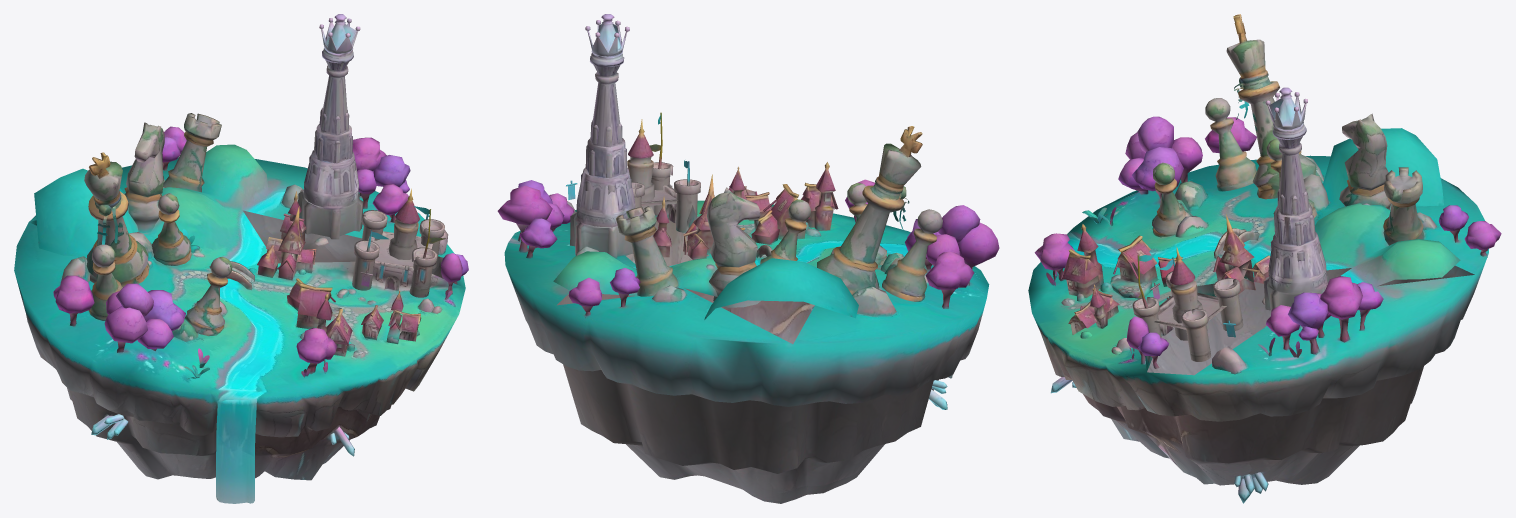
Rendered from island.glb.
The picture shows the model from 3 angles, left to right: view 1: azimuth 30°, elevation 25°; view 2: azimuth 150°, elevation 25°; view 3: azimuth 270°, elevation 25°; orthographic projection. The views are drawn at different scales.
Visible parts, largest first — view 1: tripo_node_1dd5252f-781f-4c1a-ab80-42c4d575feab; view 2: tripo_node_1dd5252f-781f-4c1a-ab80-42c4d575feab; view 3: tripo_node_1dd5252f-781f-4c1a-ab80-42c4d575feab.
Part boxes in pixels (x1,y1,x2,y2): tripo_node_1dd5252f-781f-4c1a-ab80-42c4d575feab: (14, 14, 468, 503); tripo_node_1dd5252f-781f-4c1a-ab80-42c4d575feab: (497, 14, 999, 503); tripo_node_1dd5252f-781f-4c1a-ab80-42c4d575feab: (1028, 14, 1501, 503).
Bounding box in the file's own units: 0.9995 × 0.9653 × 0.9771.
Materials: 1 (1 with a texture image).
